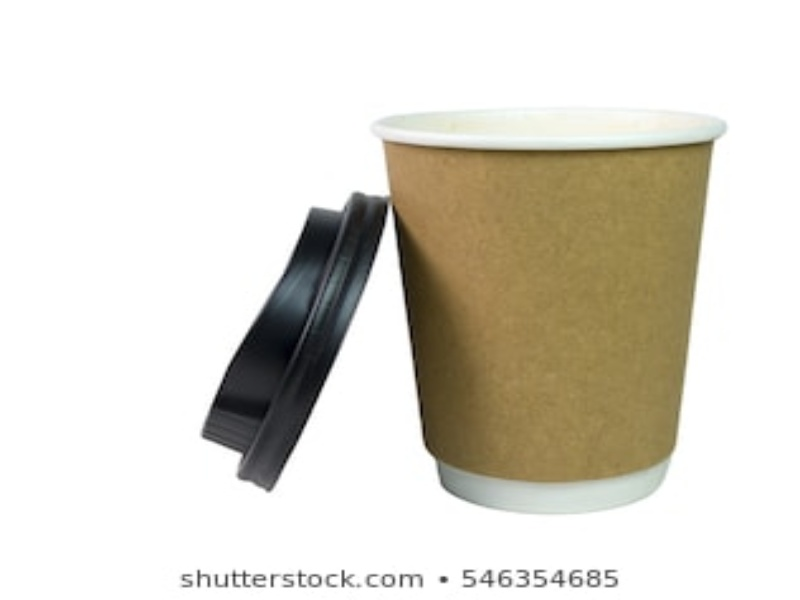coffee-lid: (198, 188, 396, 493)
plastic-cup: (369, 102, 734, 518)
